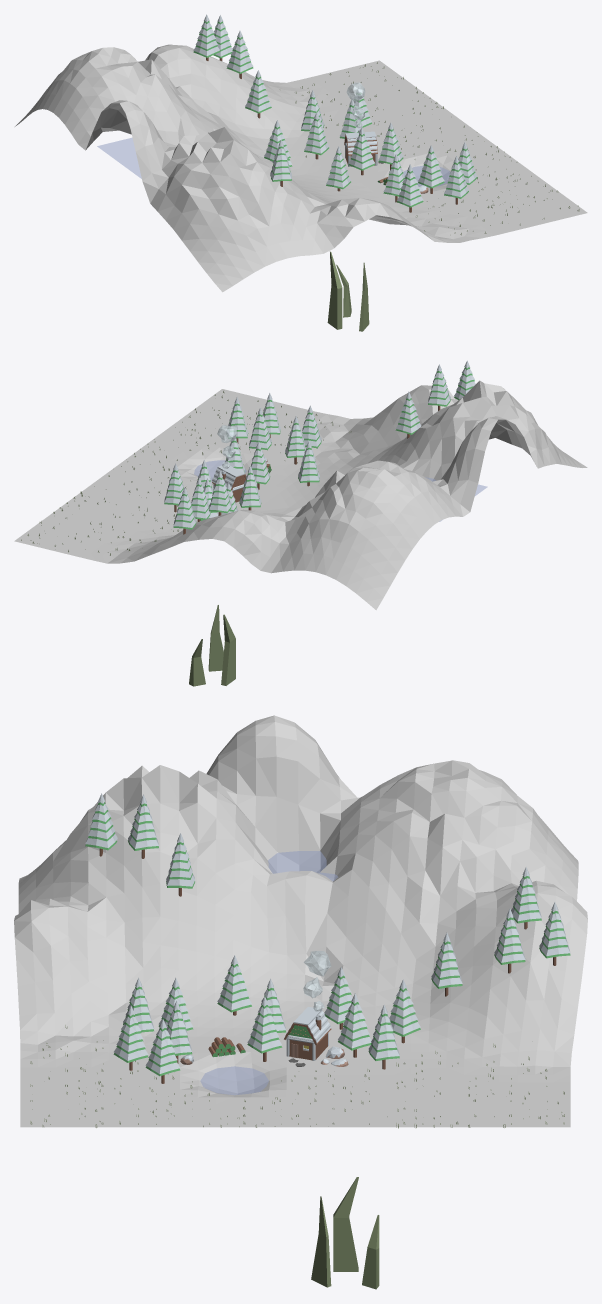
Rendered from snow2.dae.
3 renders of one model, top to bottom at view 1: azimuth 30°, elevation 25°; view 2: azimuth 150°, elevation 25°; view 3: azimuth 270°, elevation 25°, orthographic. The views are drawn at different scales.
Parts seen in each view (by area): view 1: Plane, grass, Plane_003, Cylinder_010, Cylinder_013, Cylinder_017, Cylinder_015, Cylinder_007, Cylinder_011, Cylinder_000, Cylinder_016, Cylinder_009 (+8 smaller); view 2: Plane, grass, Cylinder_005, Cylinder_012, Cylinder_011, Cylinder_004, Cylinder_009, Cylinder_000, Cylinder_018, Cylinder_015, Cylinder_014, Cylinder_003 (+5 smaller); view 3: Plane, grass, Plane_001, Plane_003, Cylinder_014, Cylinder_008, Cylinder_016, Cylinder_002, Cylinder_009, Cylinder_006, Cylinder_001, Cylinder_003 (+9 smaller).
Part boxes in pixels (x1,y1,x2,y2): Plane: (15,44,587,292); grass: (327,251,369,331); Plane_003: (97,138,141,178); Cylinder_010: (245,70,271,118); Cylinder_013: (226,30,253,78); Cylinder_017: (397,164,423,212); Cylinder_015: (418,145,444,193); Cylinder_007: (348,127,374,175); Cylinder_011: (193,14,219,60); Cylinder_000: (304,112,329,159); Cylinder_016: (444,156,468,204); Cylinder_009: (326,146,351,191); Plane: (14,380,587,610); grass: (189,605,235,686); Cylinder_005: (395,391,421,438); Cylinder_012: (173,487,196,534); Cylinder_011: (209,470,231,515); Cylinder_004: (428,364,450,410); Cylinder_009: (298,441,319,486); Cylinder_000: (239,466,261,510); Cylinder_018: (285,416,305,464); Cylinder_015: (249,407,271,450); Cylinder_014: (227,397,248,443); Cylinder_003: (164,463,183,512); Plane: (14,715,587,1127); grass: (311,1177,379,1289); Plane_001: (200,1066,268,1095); Plane_003: (268,851,337,881); Cylinder_014: (145,1019,180,1083); Cylinder_008: (247,996,282,1061); Cylinder_016: (113,1006,148,1070); Cylinder_002: (338,993,371,1057); Cylinder_009: (217,955,251,1015); Cylinder_006: (85,793,117,856); Cylinder_001: (389,979,420,1043); Cylinder_003: (368,1004,399,1069).
Size of the model in its own units: 19.33 by 19.27 by 14.8.
